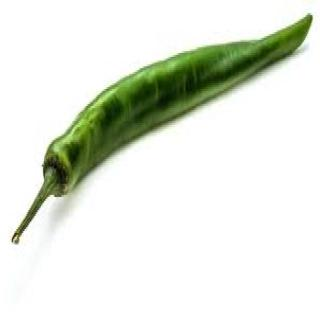Cabai Hijau: (12, 14, 314, 245)
